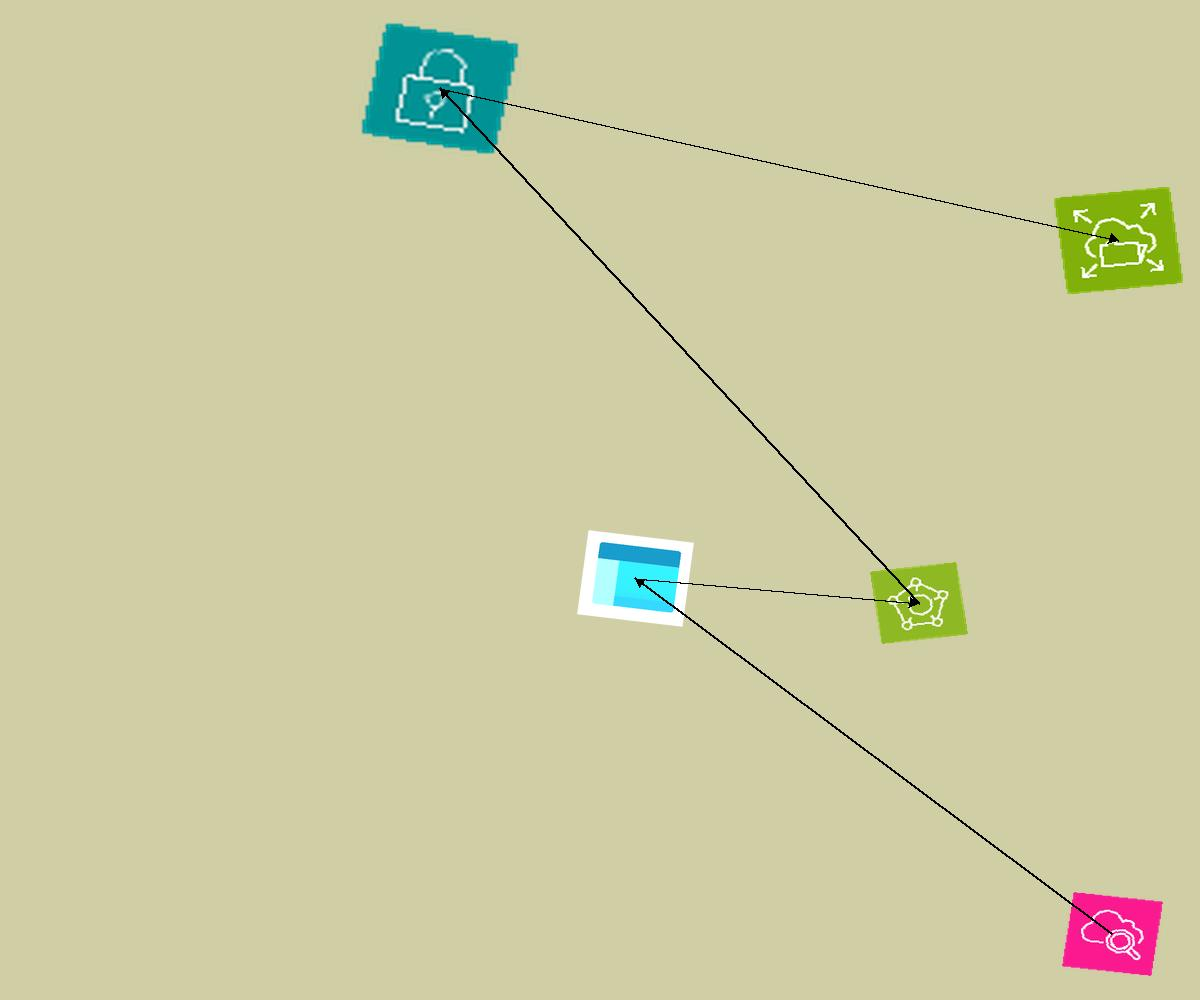AWS-Backup: (870, 562, 968, 644)
AWS-CloudWatch: (1062, 892, 1163, 976)
AWS-EFS: (1053, 186, 1184, 295)
AWS-Private-subnet: (359, 21, 521, 156)
Azure_management-portal: (577, 530, 694, 627)
